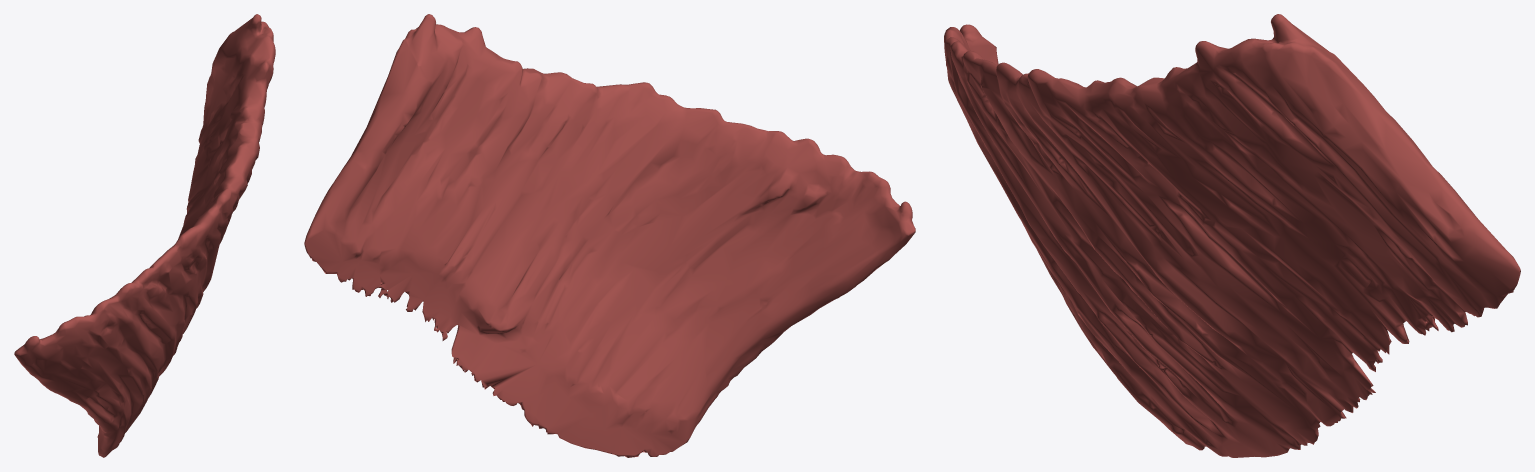
Rendered from FMA46818.glb.
3 views of the same model, side by side, from view 1: azimuth 30°, elevation 25°; view 2: azimuth 150°, elevation 25°; view 3: azimuth 270°, elevation 25° (orthographic). The views are drawn at different scales.
Parts seen in each view (by area): view 1: FMA46818; view 2: FMA46818; view 3: FMA46818.
Part boxes in pixels (left/top/right/bottom): FMA46818: left=14, top=14, right=275, bottom=457; FMA46818: left=304, top=14, right=915, bottom=457; FMA46818: left=944, top=14, right=1520, bottom=457.
Size of the model in its own units: 0.0297 by 0.0285 by 0.0264.
